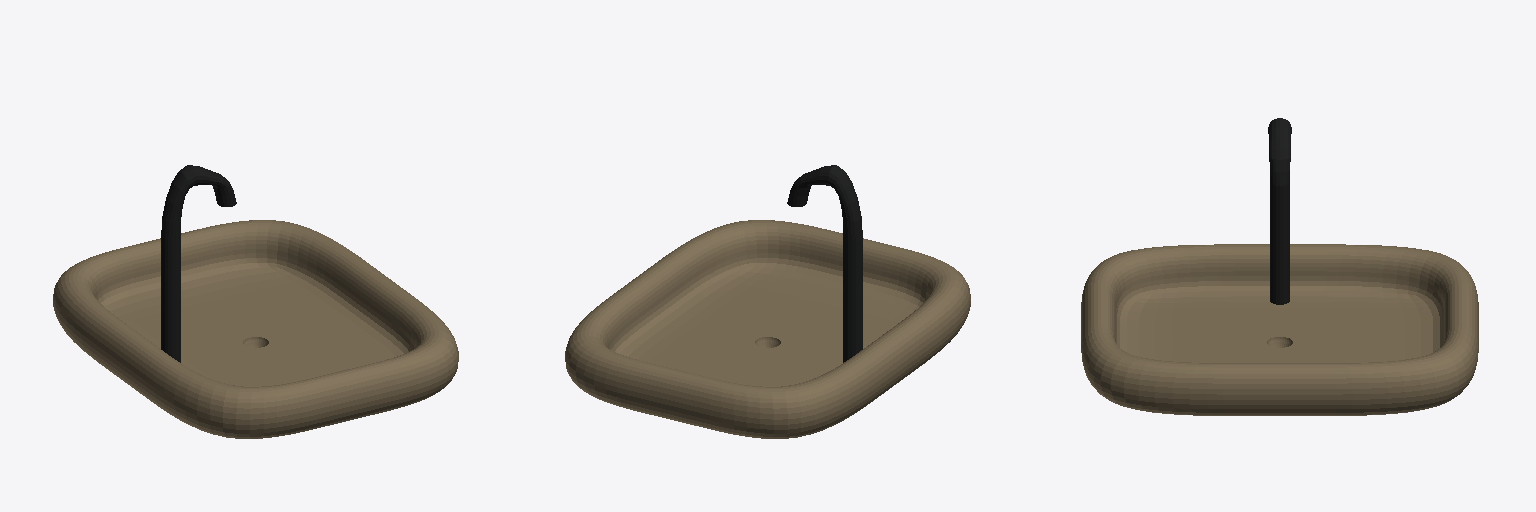
File: sink.obj
3 views of the same model, side by side, from view 1: azimuth 30°, elevation 25°; view 2: azimuth 150°, elevation 25°; view 3: azimuth 270°, elevation 25° (orthographic).
Visible parts, largest first — view 1: Tub_Cube, Tap_Cylinder; view 2: Tub_Cube, Tap_Cylinder; view 3: Tub_Cube, Tap_Cylinder.
Boxes of the visible parts, <box> form: Tub_Cube: <box>53,220,458,438</box>; Tap_Cylinder: <box>161,165,236,362</box>; Tub_Cube: <box>565,220,970,438</box>; Tap_Cylinder: <box>787,165,862,362</box>; Tub_Cube: <box>1081,244,1478,415</box>; Tap_Cylinder: <box>1268,118,1291,304</box>.
Bounding box in the file's own units: 29.61 × 21.72 × 36.93.